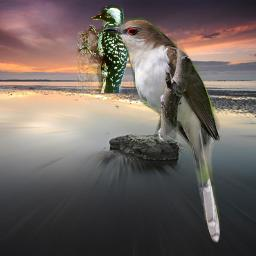Cuckoo: (99, 17, 222, 244)
Woodpecker: (77, 5, 129, 93)
